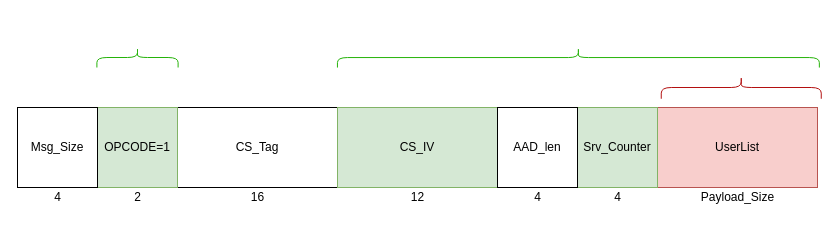
Some shapes in this 839 by 225 pixel diagram are drawn without their labels. The centre of each missing label's shape, as x and y in pixels:
Authenticated: (x=577, y=57)
Encrypted: (x=740, y=87)
